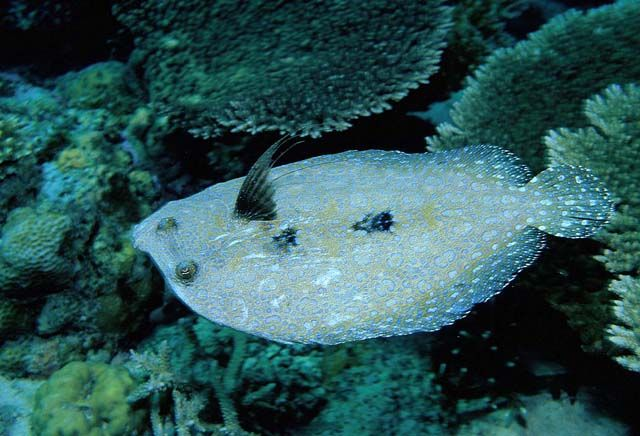fish: (131, 125, 613, 345)
